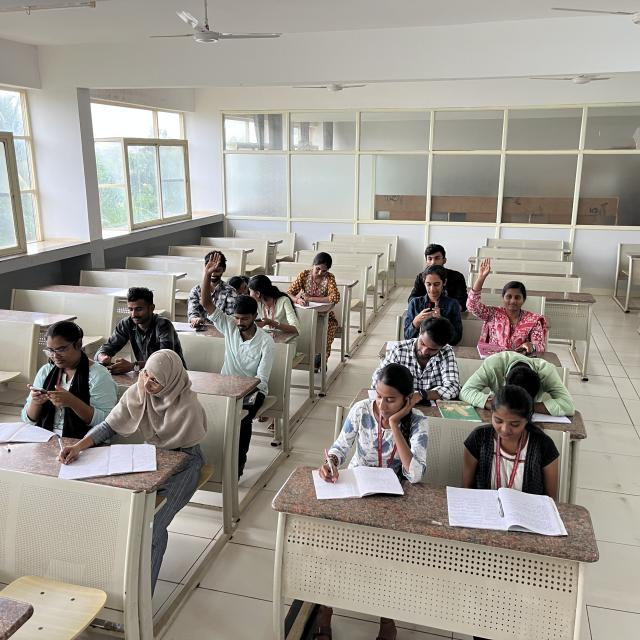Hand Rising: (195, 256, 278, 389), (467, 256, 541, 340)
Reading: (447, 405, 559, 522), (369, 326, 456, 398)
Sleeping: (464, 348, 566, 408), (224, 267, 275, 297)
Using Phone: (11, 316, 109, 431), (87, 282, 180, 378), (405, 272, 461, 324), (244, 278, 296, 326)
Writing: (50, 344, 195, 492), (301, 374, 434, 495), (286, 254, 346, 305)
